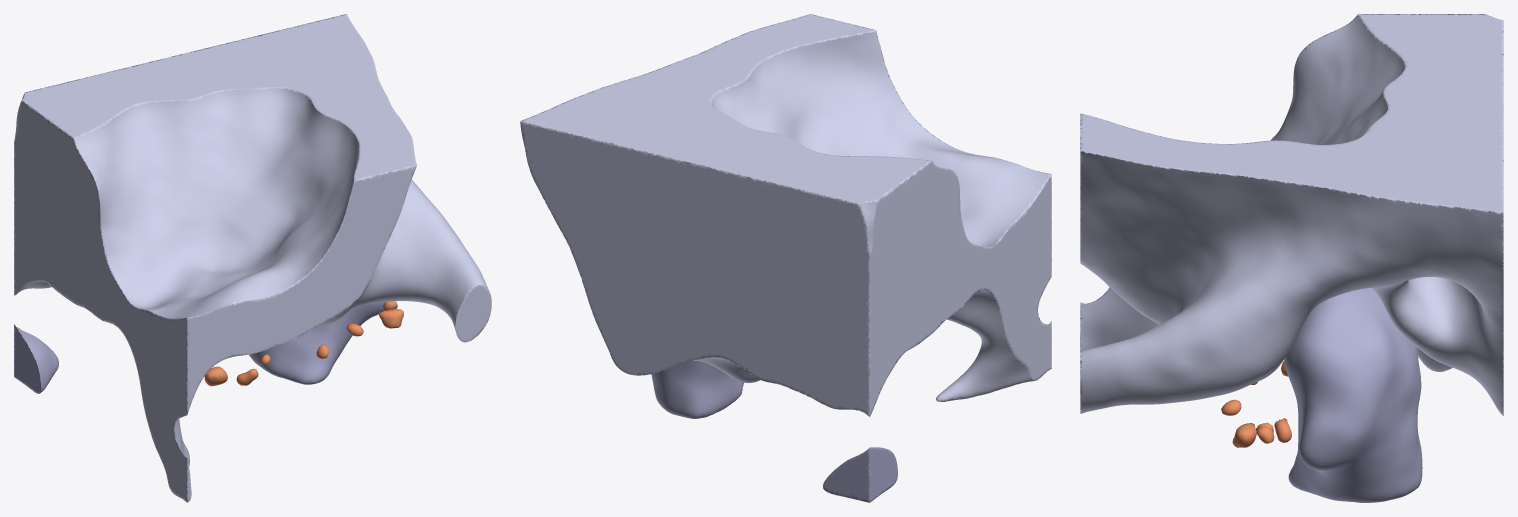
The model's file is asset.glb.
3 renders of one model, left to right at view 1: azimuth 30°, elevation 25°; view 2: azimuth 150°, elevation 25°; view 3: azimuth 270°, elevation 25°, orthographic. The views are drawn at different scales.
Parts seen in each view (by area): view 1: all parts 2; view 2: all parts 2; view 3: all parts 2.
Boxes of the visible parts, bbox=[...] form: all parts 2: bbox=[14, 14, 491, 502]; all parts 2: bbox=[520, 14, 1051, 502]; all parts 2: bbox=[1080, 14, 1503, 502].
Bounding box in the file's own units: 48.77 × 39.67 × 44.
